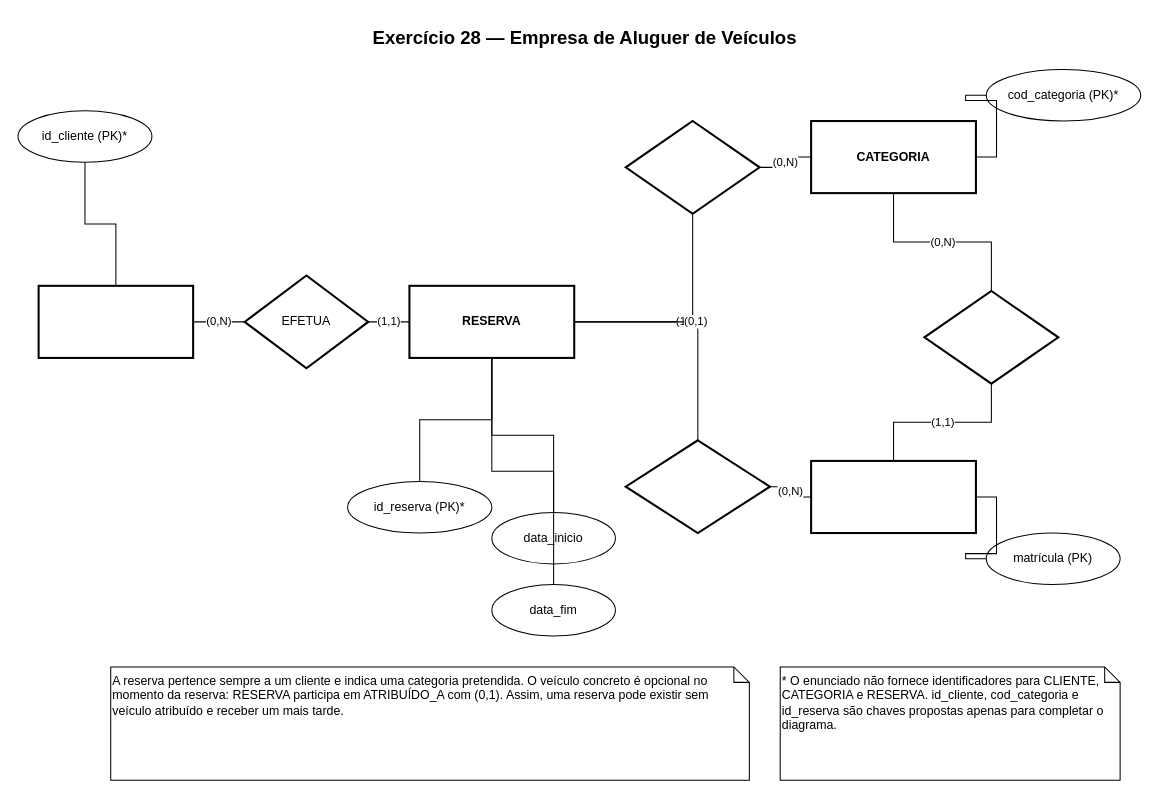
Image size: 1159x798. Some labels were removed from this diagram. The shapes that lost their labels are listed below. From the top down, each one's centre as x and y in pixels, then its label:
(692,166): PRETENDE
(115,321): CLIENTE
(991,336): PERTENCE
(697,486): ATRIBUÍDO_A
(893,496): VEÍCULO
